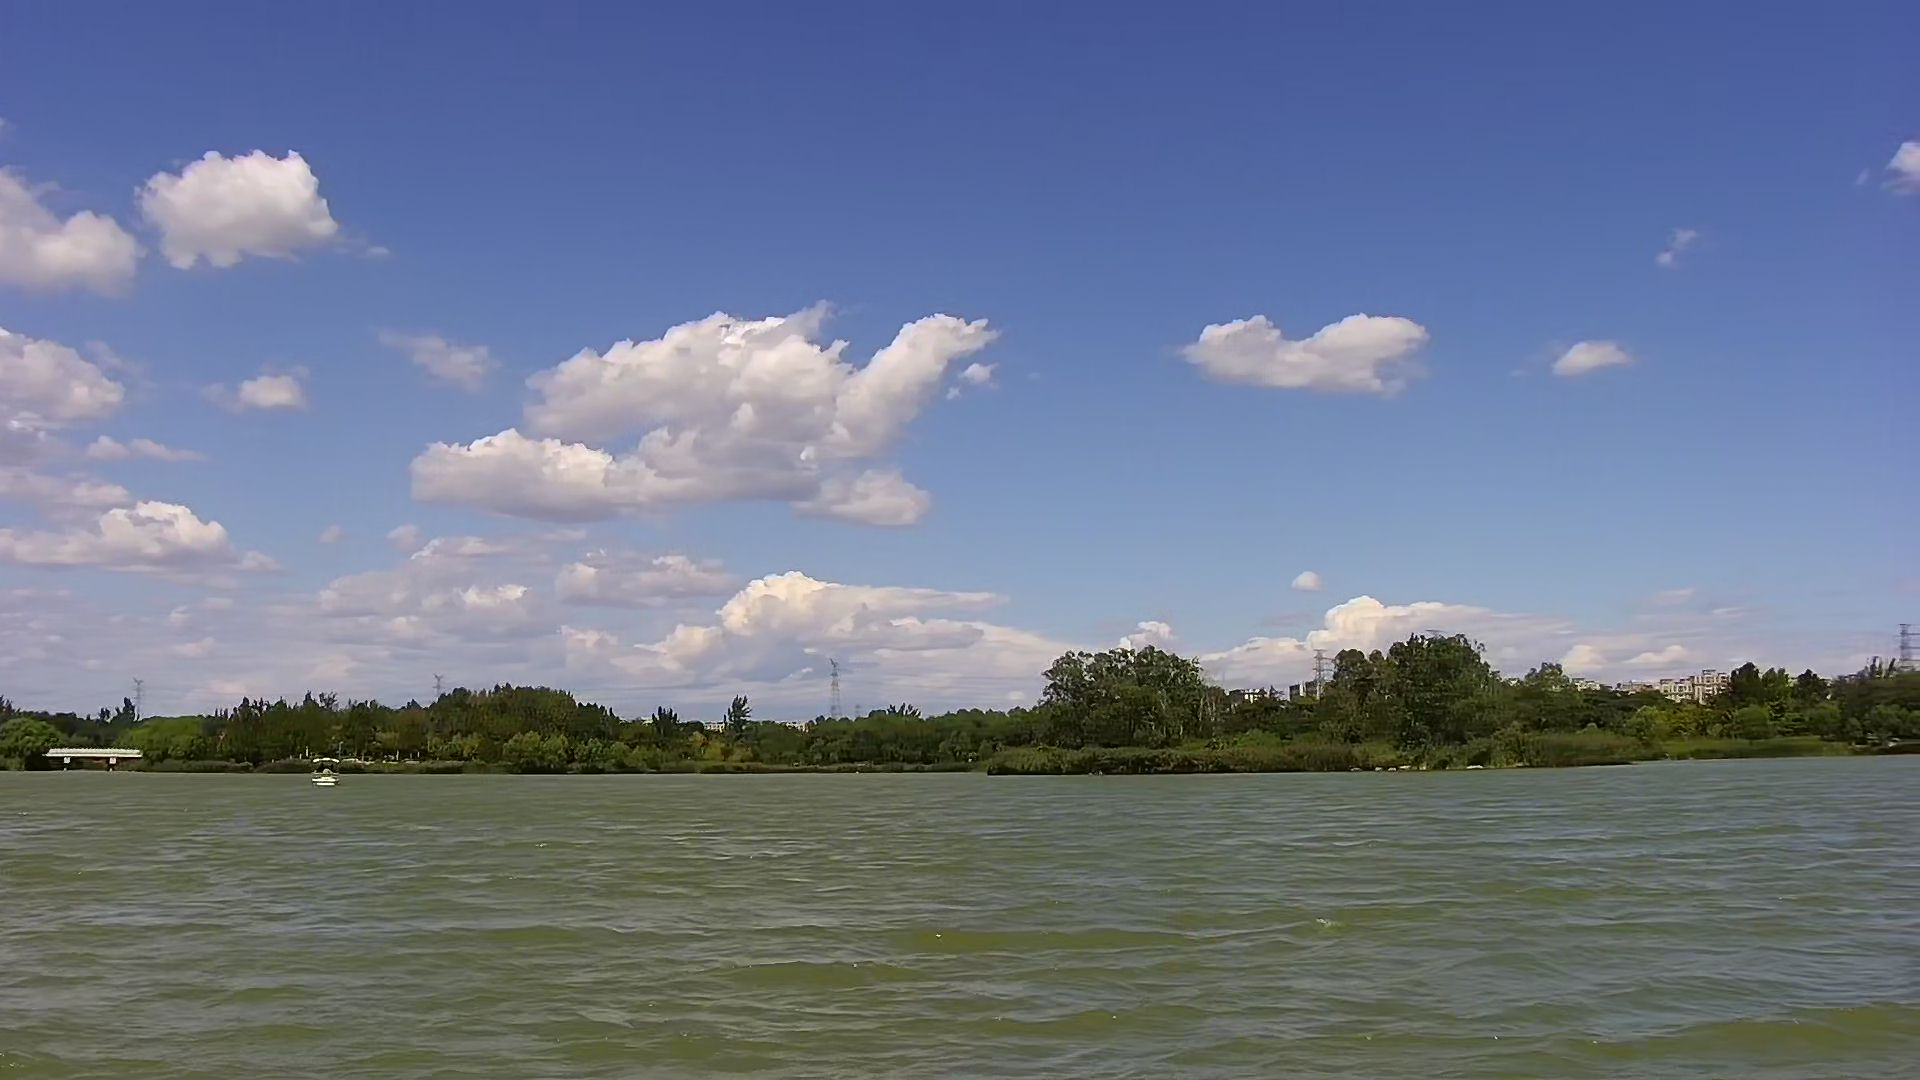boat: (309, 754, 340, 789)
harbor: (46, 742, 140, 775)
